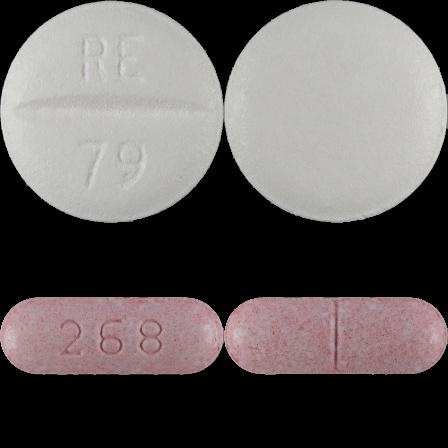0904-6162: (0, 0, 224, 224)
